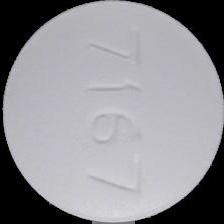0093-7167: (0, 0, 224, 224)
